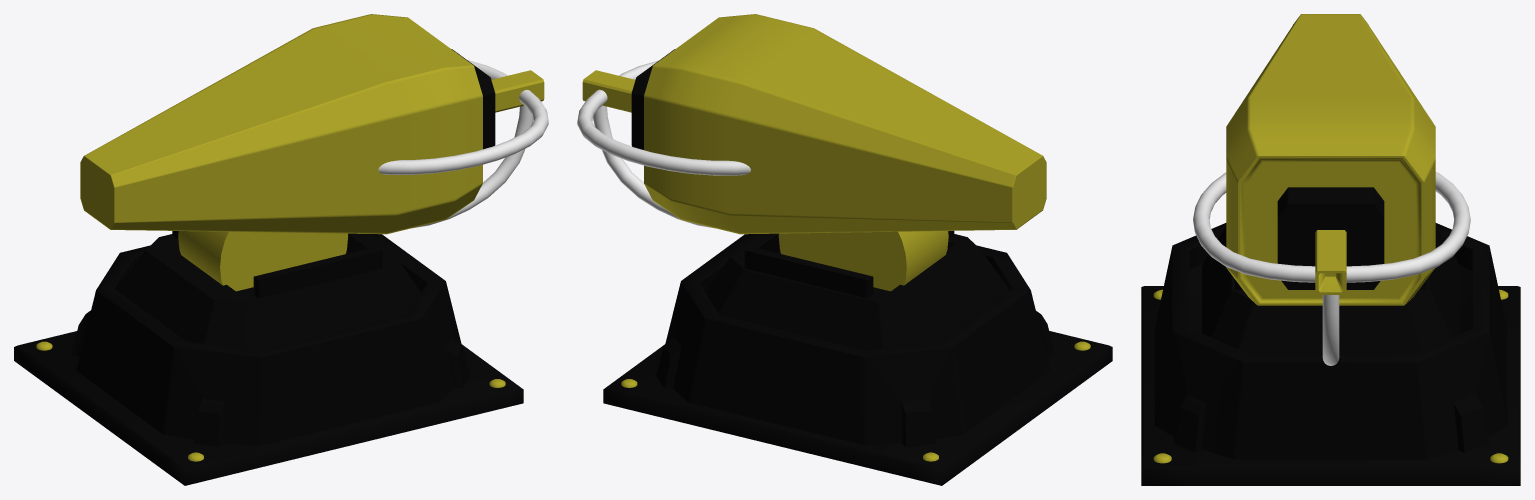
The model's file is 未命名2.fbx.
3 renders of one model, left to right at view 1: azimuth 30°, elevation 25°; view 2: azimuth 150°, elevation 25°; view 3: azimuth 270°, elevation 25°, orthographic. The views are drawn at different scales.
Parts seen in each view (by area): view 1: Stand, Turret; view 2: Stand, Turret; view 3: Stand, Turret.
Part boxes in pixels (<box>): Stand: <box>14,231,523,485</box>; Turret: <box>80,14,548,291</box>; Stand: <box>603,231,1112,485</box>; Turret: <box>577,14,1046,291</box>; Stand: <box>1141,223,1520,485</box>; Turret: <box>1193,14,1470,365</box>.
Bounding box in the file's own units: 532 × 355 × 357.
